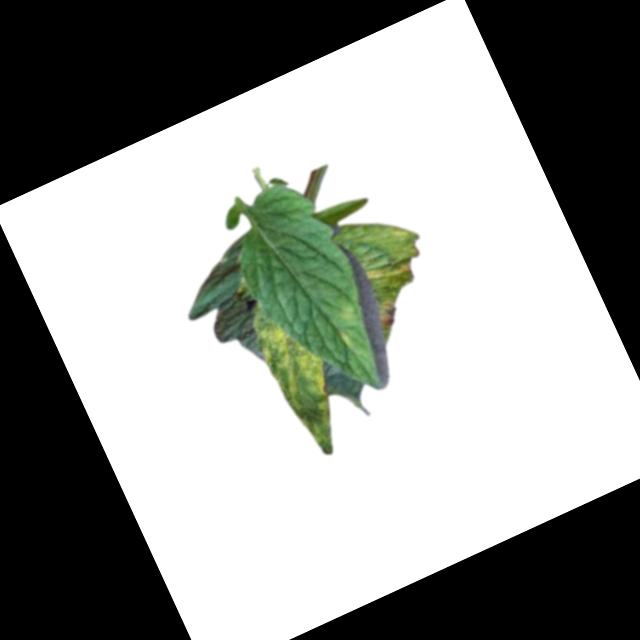Leaf_Mold: (246, 298, 352, 446), (345, 216, 451, 329), (324, 295, 374, 355)
